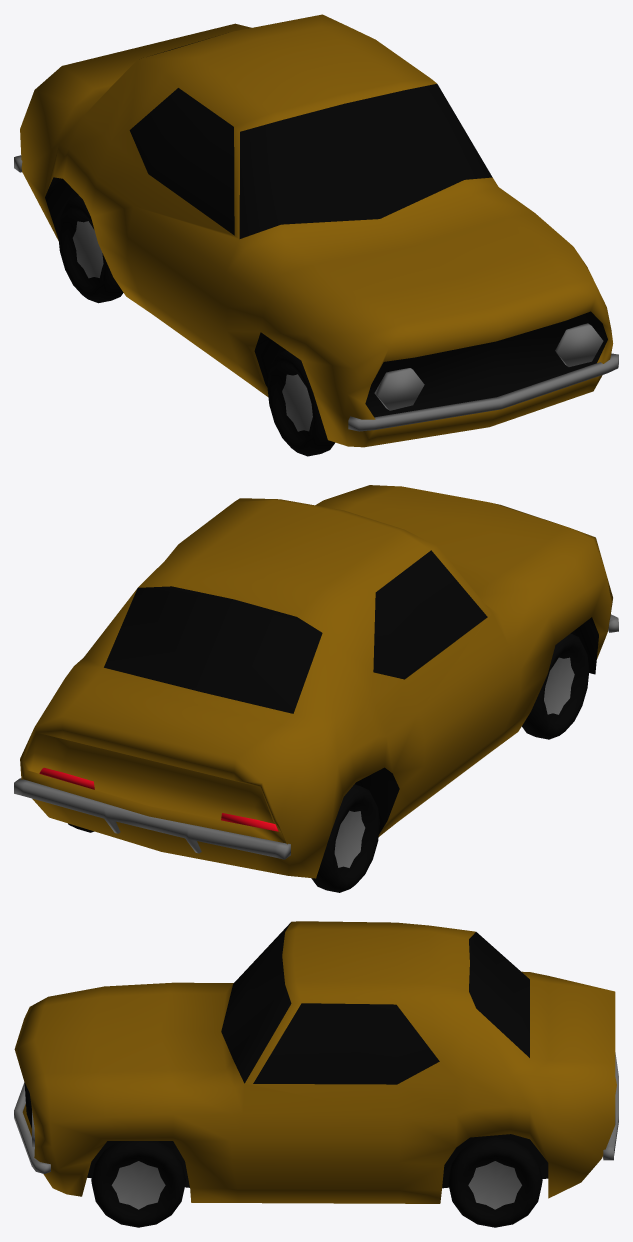
File: carro.fbx
The picture shows the model from 3 angles, top to bottom: view 1: azimuth 30°, elevation 25°; view 2: azimuth 150°, elevation 25°; view 3: azimuth 270°, elevation 25°; orthographic projection. The views are drawn at different scales.
Visible parts, largest first — view 1: Body; view 2: Body; view 3: Body.
Part boxes in pixels (x1,y1,x2,y2): Body: [14, 14, 618, 456]; Body: [14, 485, 618, 892]; Body: [14, 921, 618, 1227].
Size of what is drawn, in the model's own units: 155 by 127 by 316.
